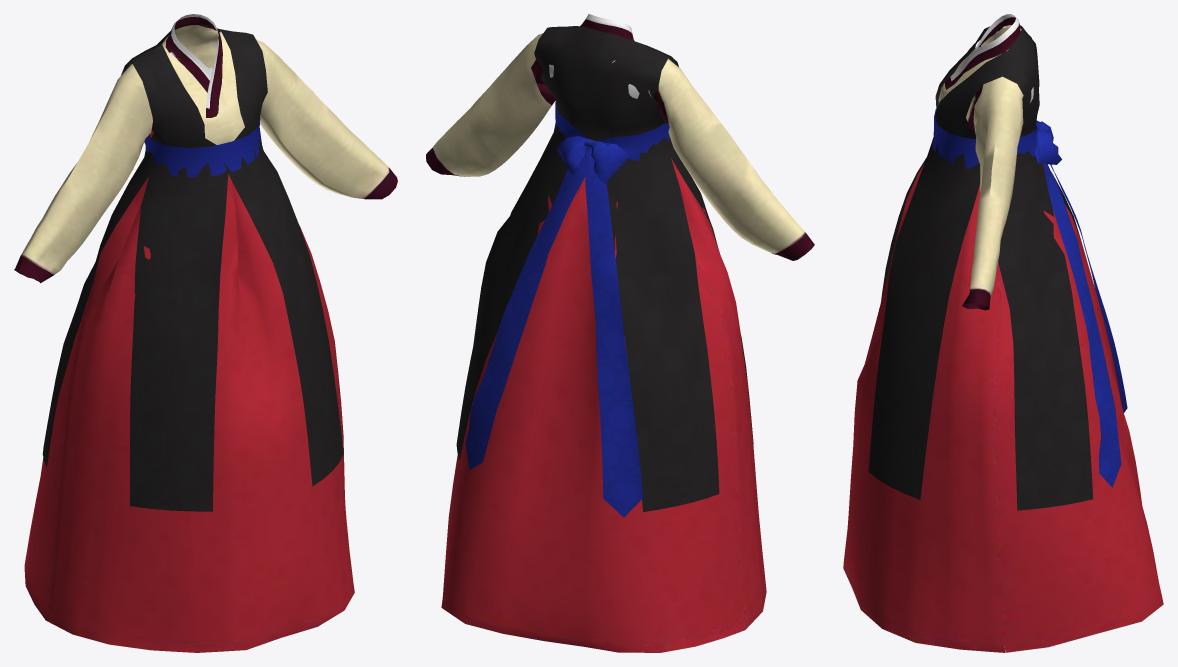
Rendered from cl_geommubok.glb.
The picture shows the model from 3 angles, left to right: view 1: azimuth 30°, elevation 25°; view 2: azimuth 150°, elevation 25°; view 3: azimuth 270°, elevation 25°; orthographic projection.
Visible parts, largest first — view 1: geomubok_lambert2_0; view 2: geomubok_lambert2_0; view 3: geomubok_lambert2_0.
Boxes of the visible parts, x1=… form: geomubok_lambert2_0: x1=14, y1=14, x2=397, y2=652; geomubok_lambert2_0: x1=426, y1=14, x2=814, y2=652; geomubok_lambert2_0: x1=843, y1=14, x2=1163, y2=652.
Size of the model in its own units: 1.11 by 1.6 by 0.8159.
Materials: 1 (1 with a texture image).
